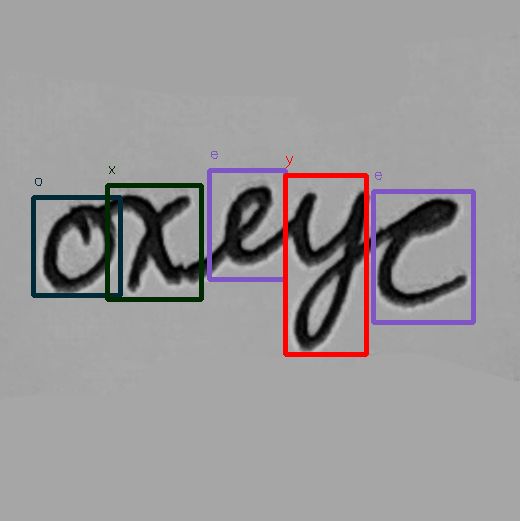e: (376, 194, 475, 309), (215, 178, 279, 267)
o: (36, 198, 122, 297)
x: (120, 190, 200, 294)
y: (280, 186, 374, 351)
